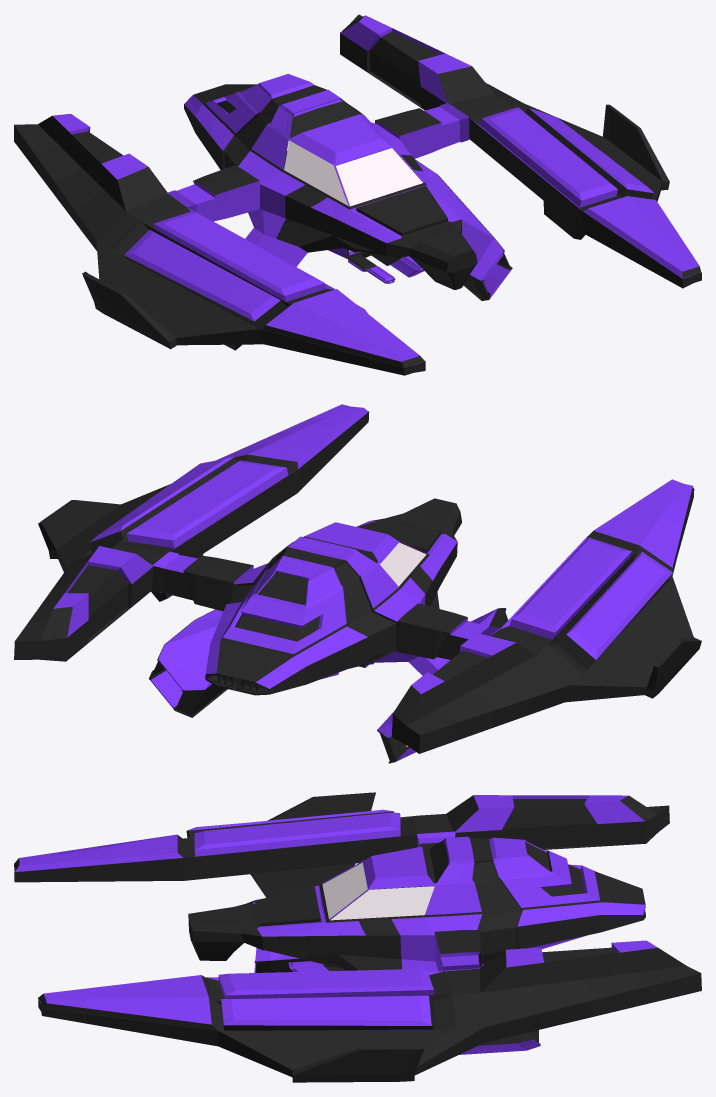
Rendered from Nebula Rhilnner.fbx.
3 renders of one model, top to bottom at view 1: azimuth 30°, elevation 25°; view 2: azimuth 150°, elevation 25°; view 3: azimuth 270°, elevation 25°, orthographic. The views are drawn at different scales.
Visible parts, largest first — view 1: Nave Rhilnner; view 2: Nave Rhilnner; view 3: Nave Rhilnner.
Part boxes in pixels (x1,y1,x2,y2): Nave Rhilnner: [14, 14, 701, 375]; Nave Rhilnner: [14, 404, 701, 763]; Nave Rhilnner: [14, 792, 701, 1082].
Bounding box in the file's own units: 393 × 112 × 418.
